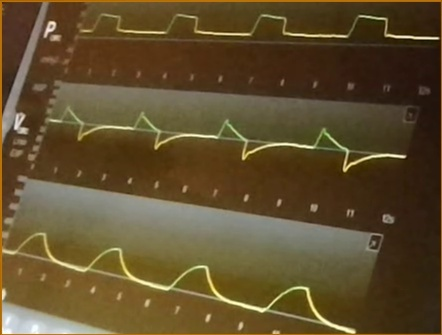Normal Flow: (52, 91, 402, 184)
Normal Volume: (5, 224, 354, 332)
